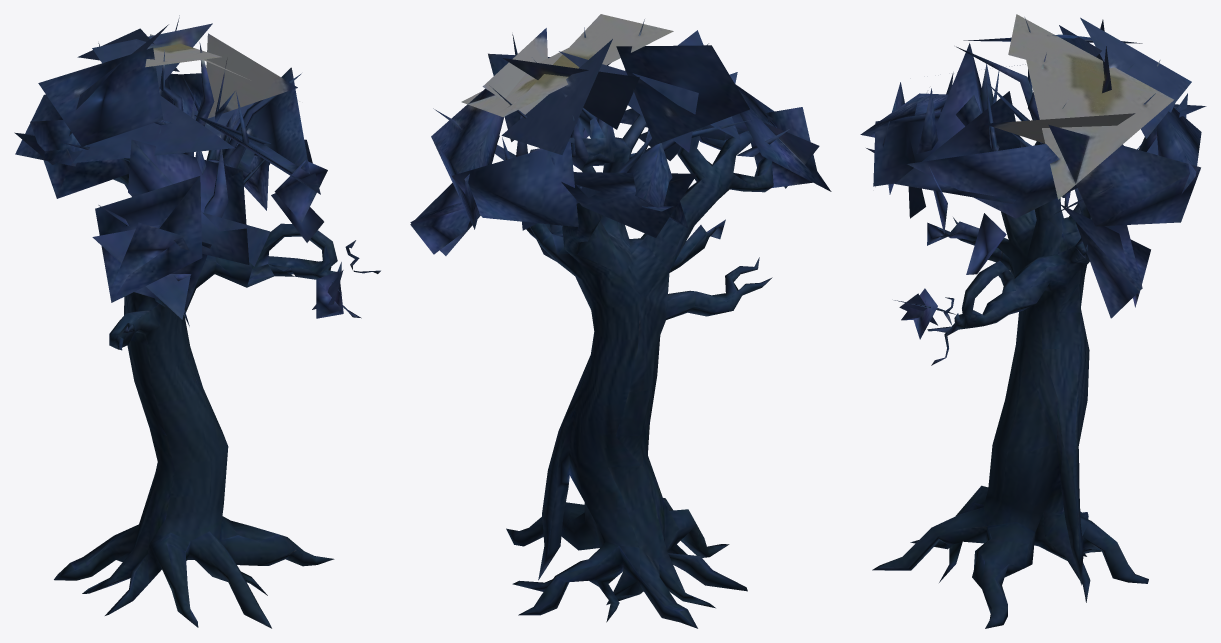
Rendered from oldtree.glb.
3 renders of one model, left to right at view 1: azimuth 30°, elevation 25°; view 2: azimuth 150°, elevation 25°; view 3: azimuth 270°, elevation 25°, orthographic. The views are drawn at different scales.
Bounding box in the file's own units: 0.5342 × 0.9541 × 0.5513.
1 material, 1 textured.
